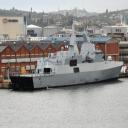Fragata: (10, 22, 125, 92)
